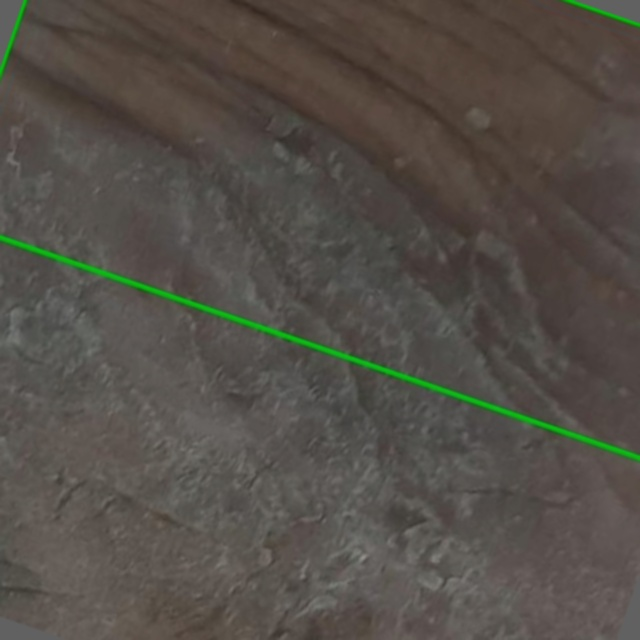Eczema: (0, 0, 639, 457)
